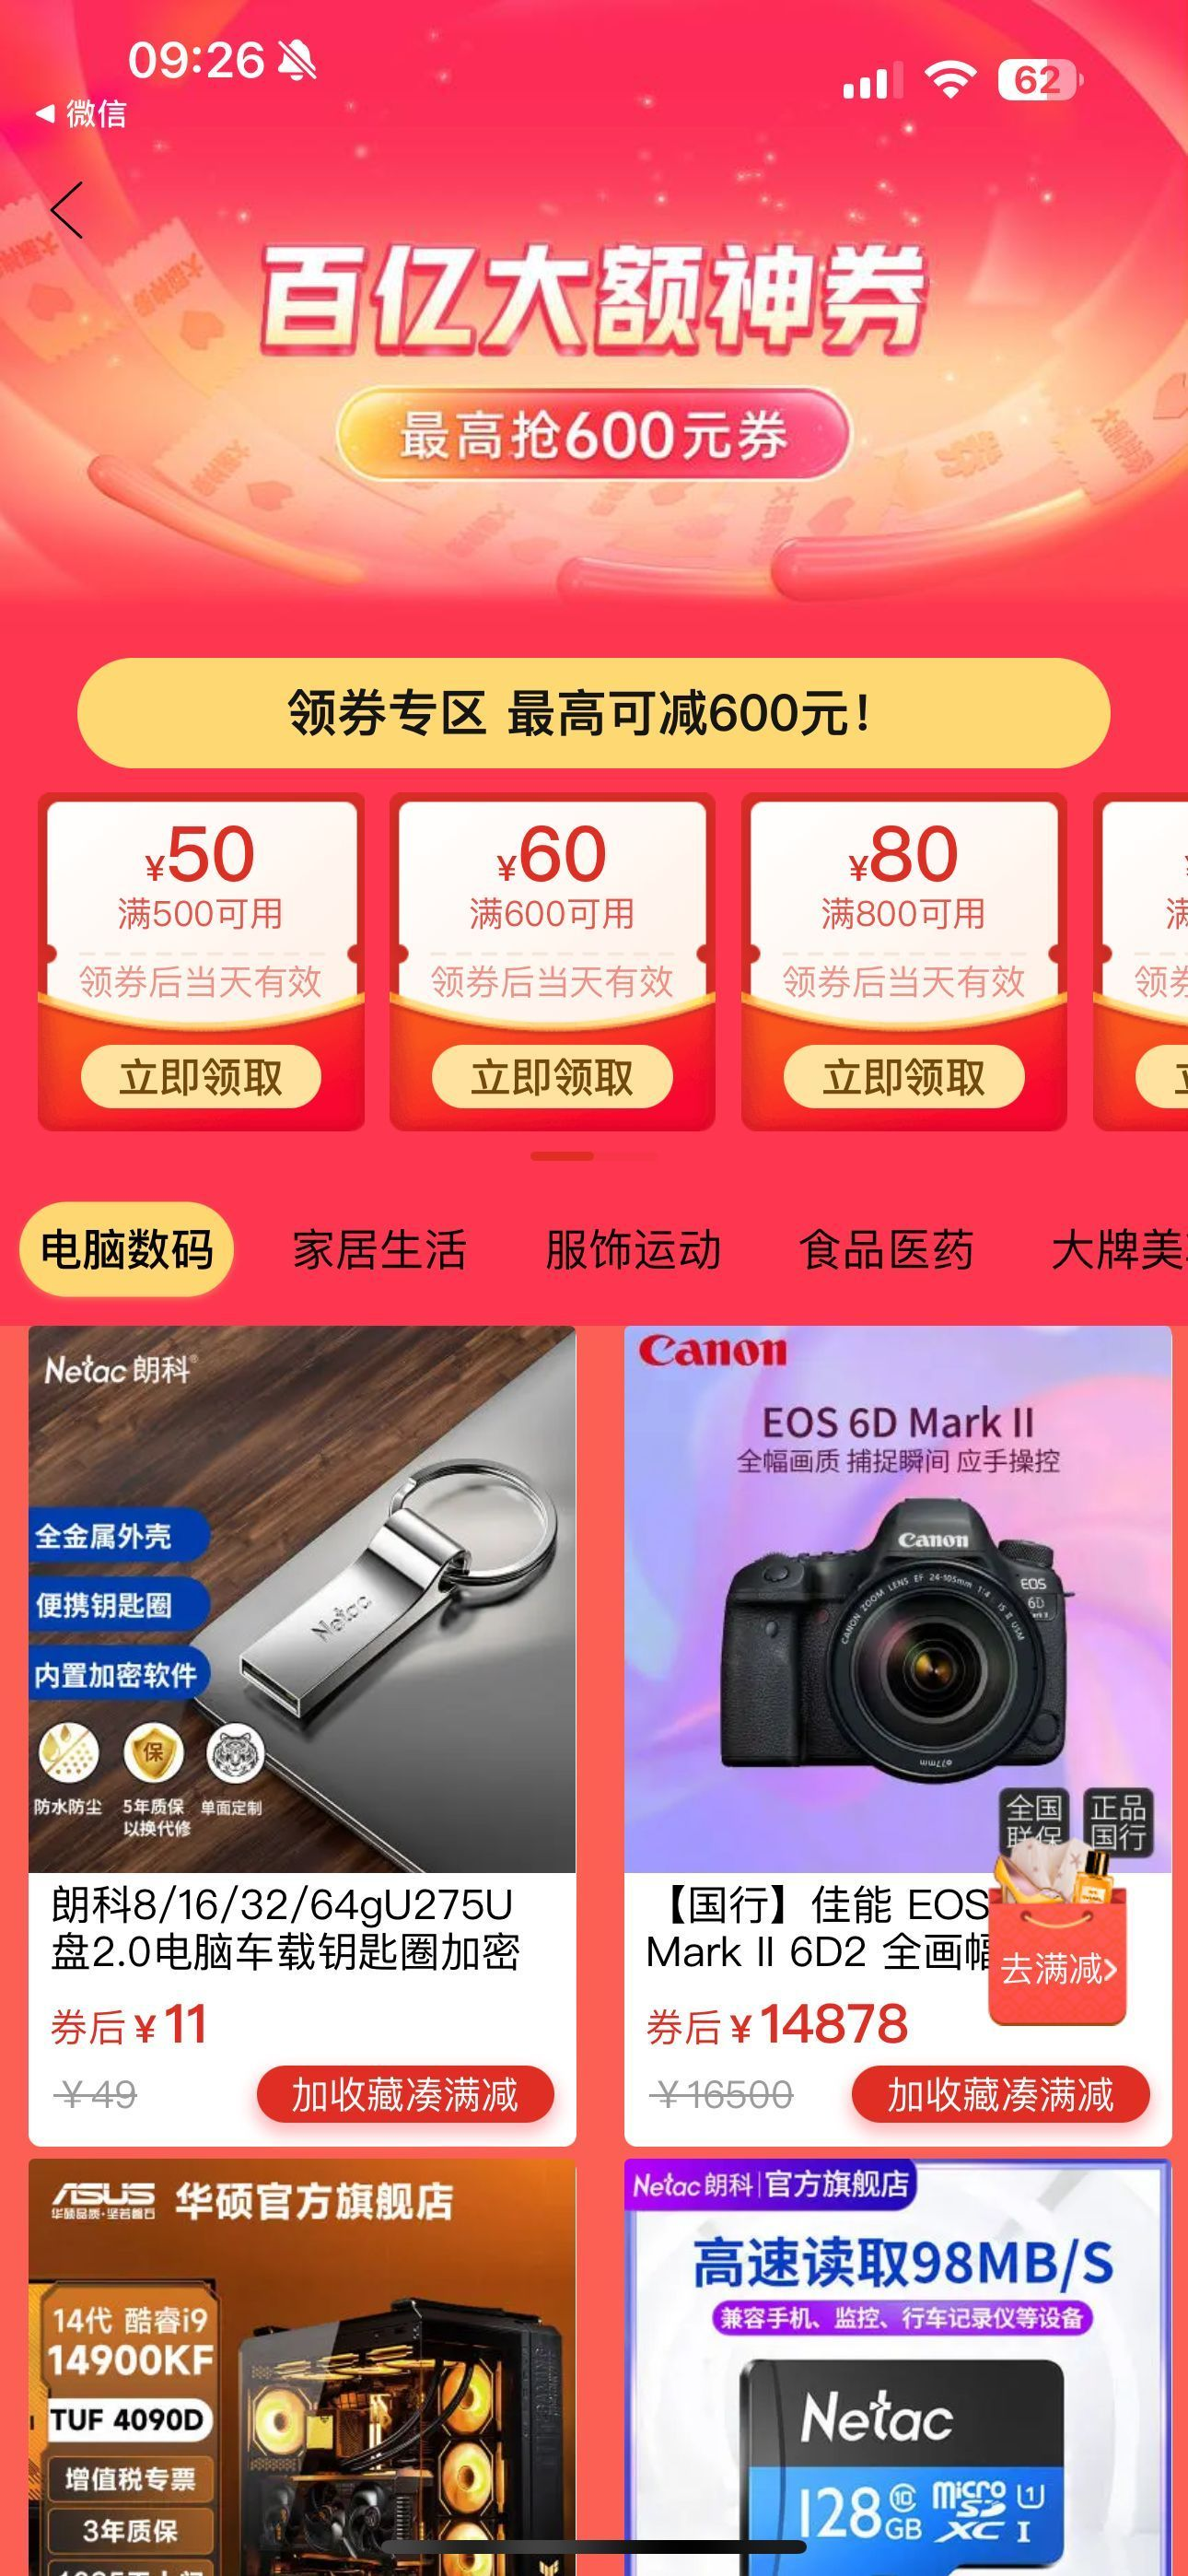item: (33, 1323, 575, 2150), (628, 1321, 1168, 2142)
op_bar: (5, 156, 1183, 261)
